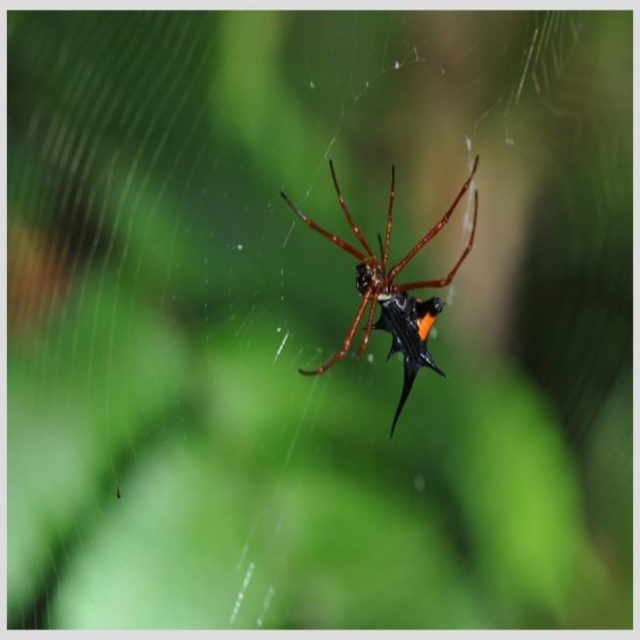Spider: (277, 153, 480, 441)
